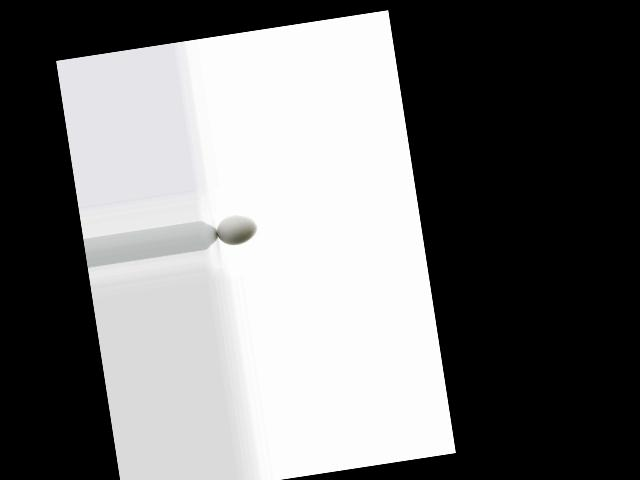egg: (214, 213, 258, 247)
